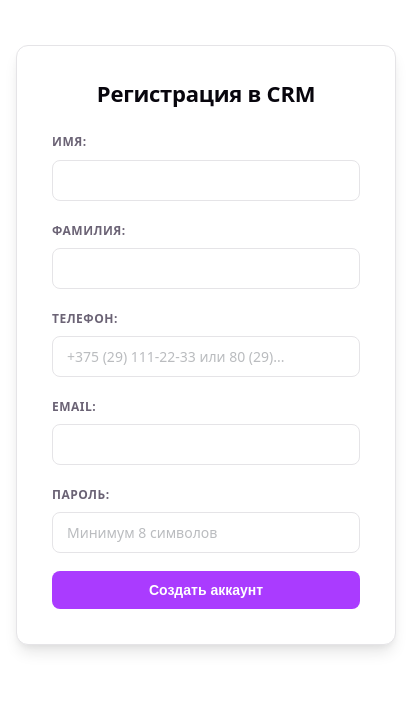
SignUpPage - Юнит-тесты бизнес-логики (Vitest) › 6. Должен корректно отображать ошибку, если бэкенд вернул массив ошибок (FastAPI detail)
Type "Иван" into the field labelled "Имя:" at (206, 180), box [52,160,360,201]
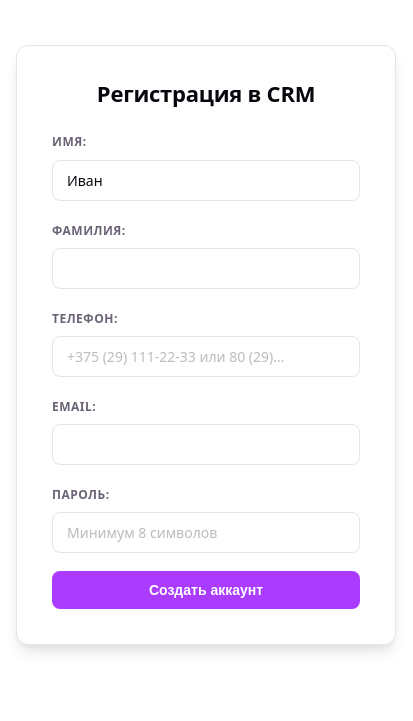
Type "Иванов" into the field labelled "Фамилия:" at (206, 268), box [52,248,360,289]
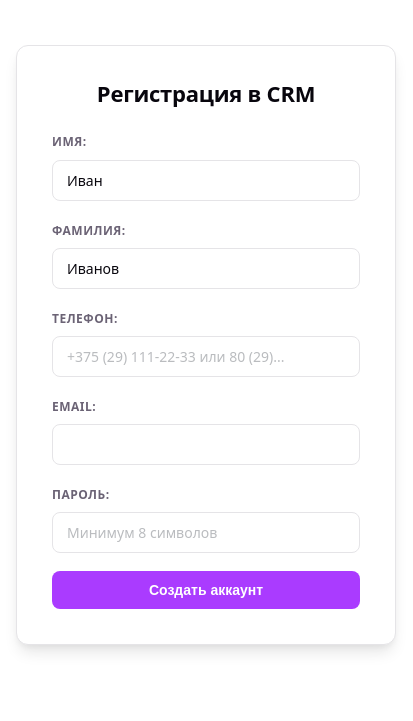
Type "+375291112233" into the field labelled "Телефон:" at (206, 357), box [52,336,360,377]
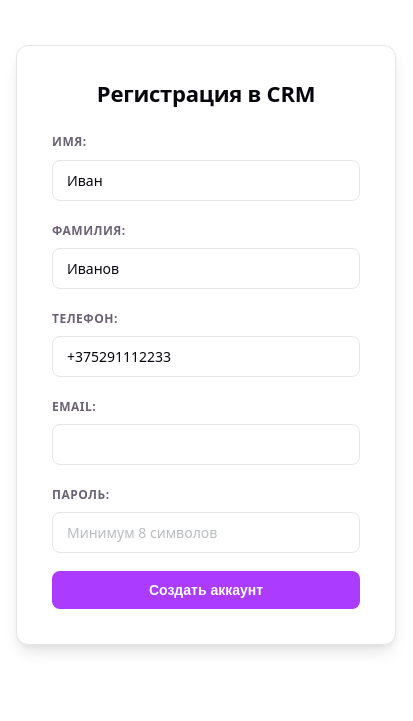
Type "test@example.com" into the field labelled "Email:" at (206, 445), box [52,424,360,465]
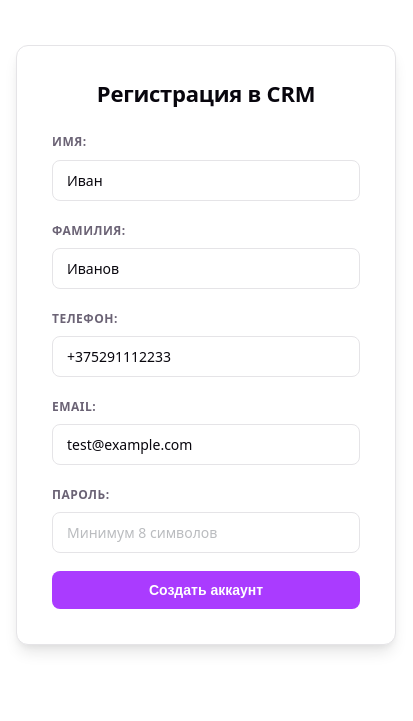
Type "password123" into the password field labelled "Пароль:" at (206, 533), box [52,512,360,554]
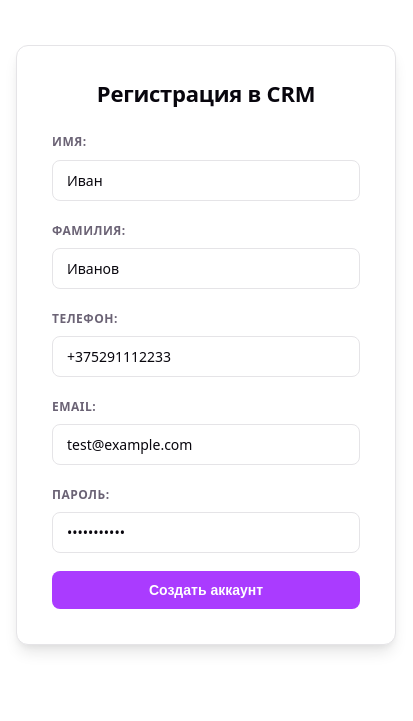
Click the button "Создать аккаунт" at (206, 590), box [52,572,360,610]
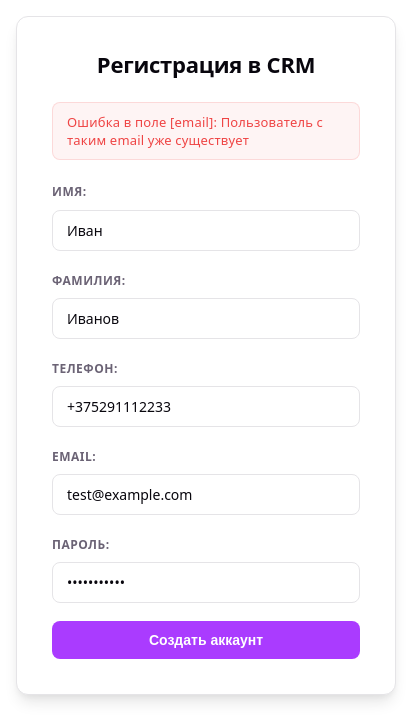
Expected: the text "Ошибка в поле [email]: Пользователь с таким email уже существует" is shown, [52,102,360,160]
